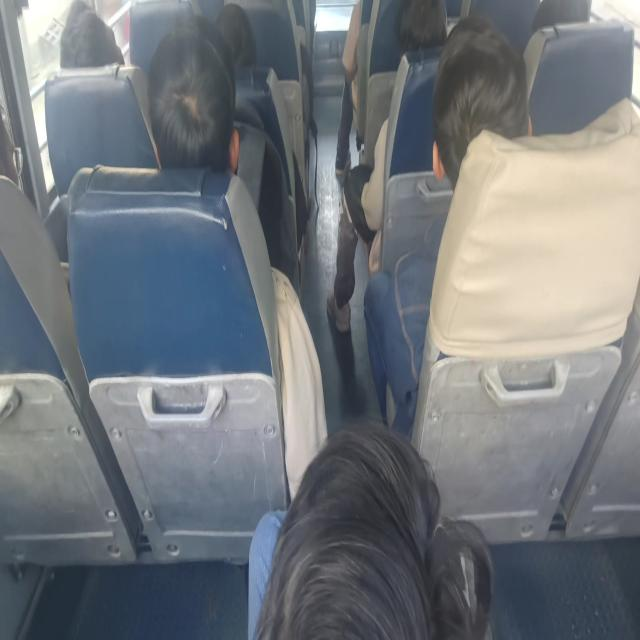person: (245, 410, 495, 640), (439, 30, 531, 193), (150, 34, 236, 178), (185, 0, 259, 89), (60, 0, 119, 77), (390, 0, 453, 72), (528, 0, 598, 46), (0, 110, 34, 196)
